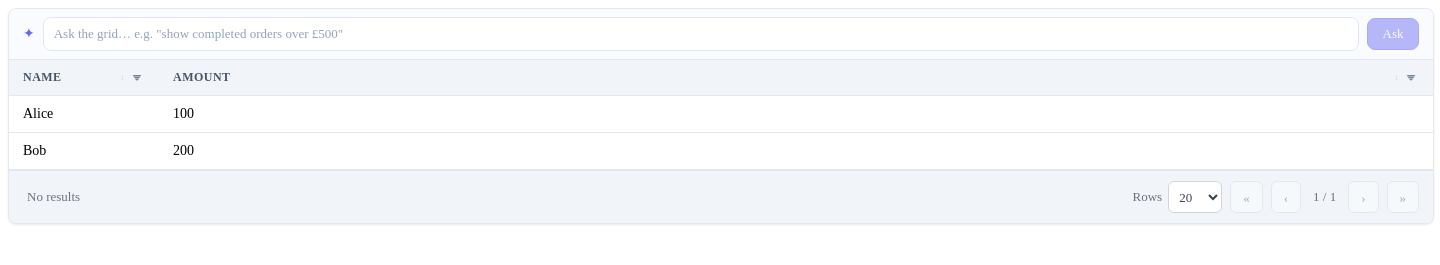
Scenario: AiBar › shows error message when the AI request fails
This screenshot has width=1440, height=265.
Type "do something" into the field named "AI grid command" at x=701, y=34, box [43,17,1359,51]
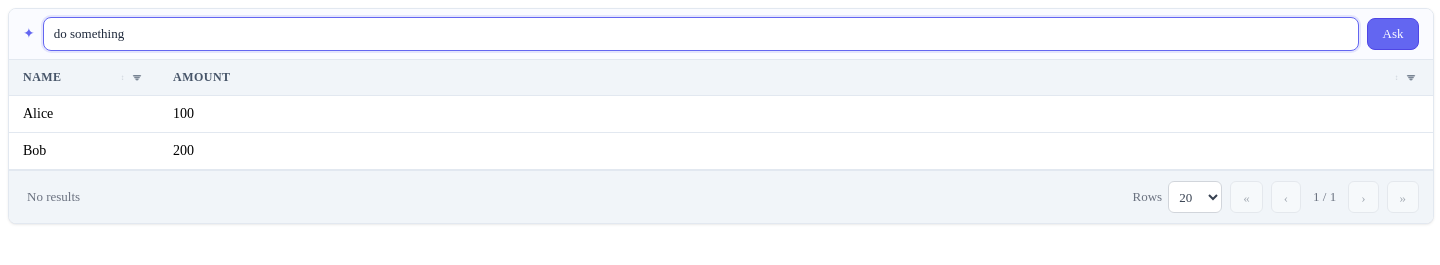
Click the button with aria-label "Send AI command" at x=1393, y=34, box [1367,18,1419,50]
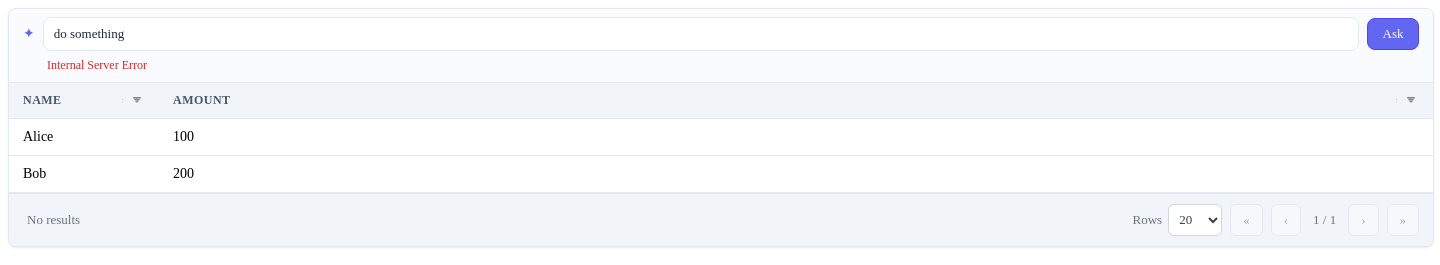
Now the message "Internal Server Error" is shown, box [47,58,147,72]
